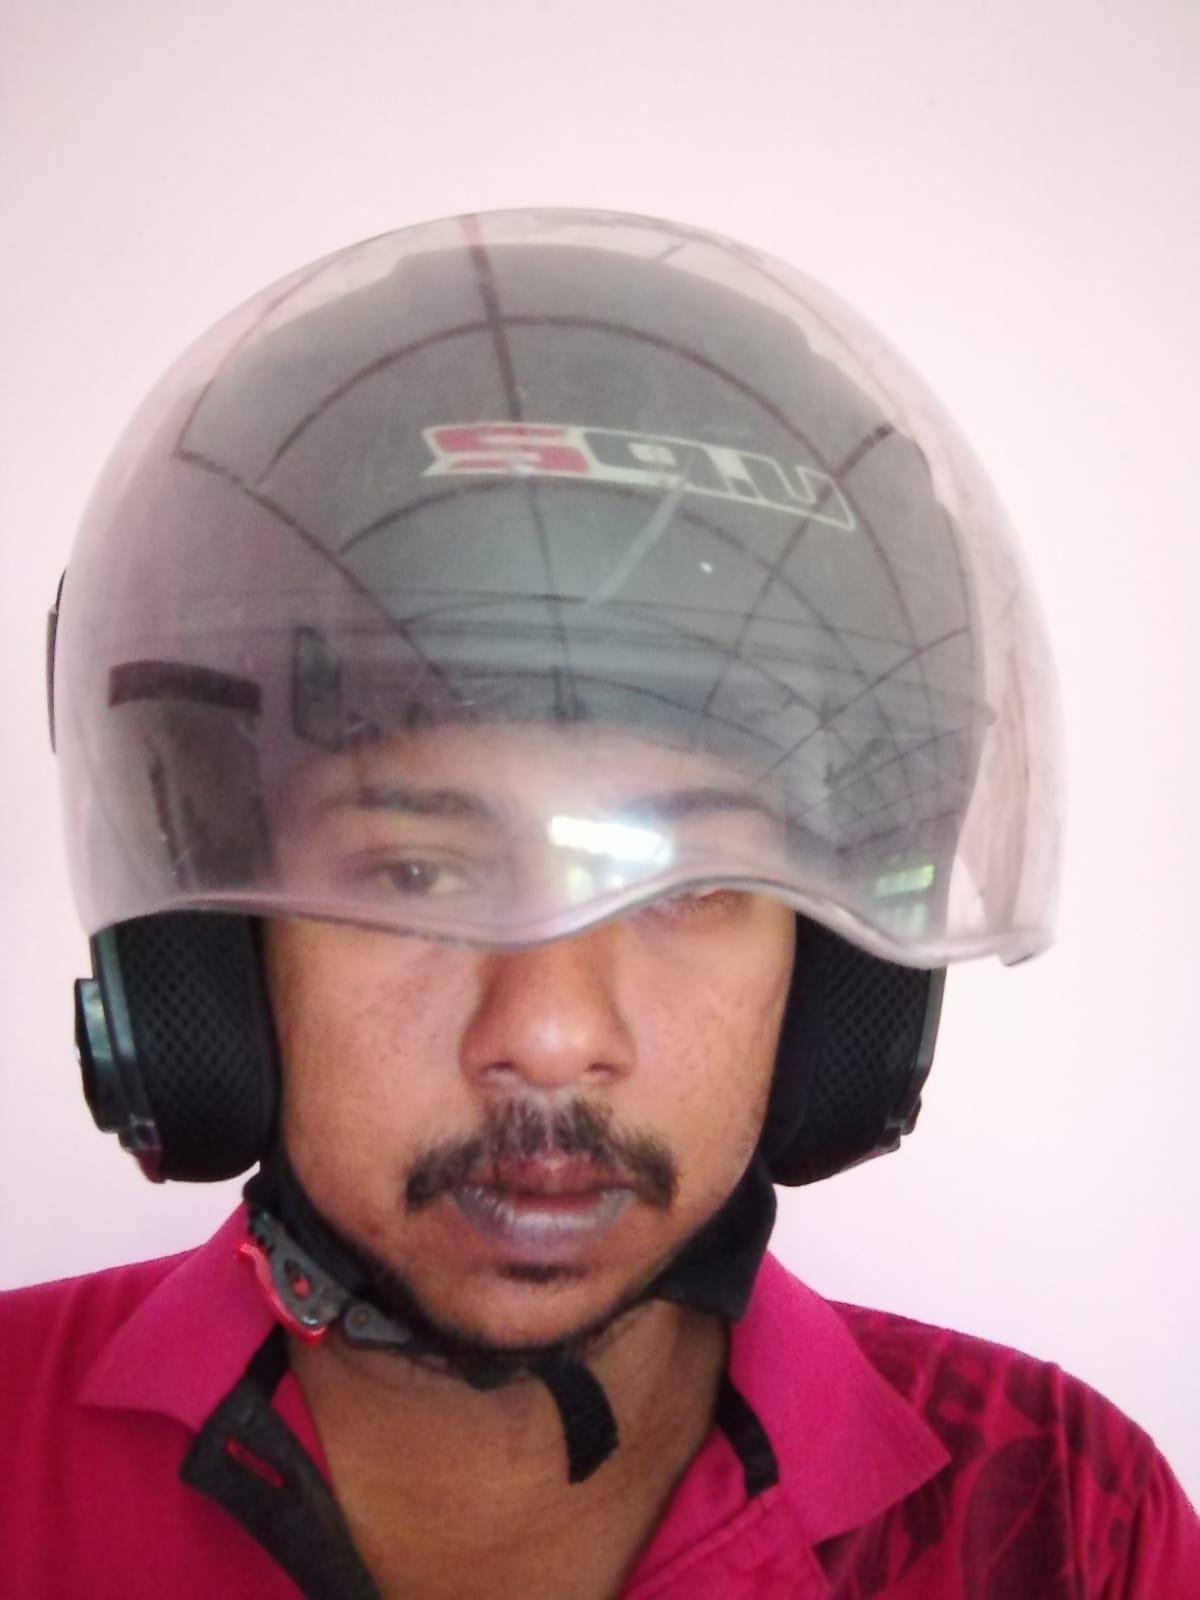helmet: (42, 199, 1069, 1376)
